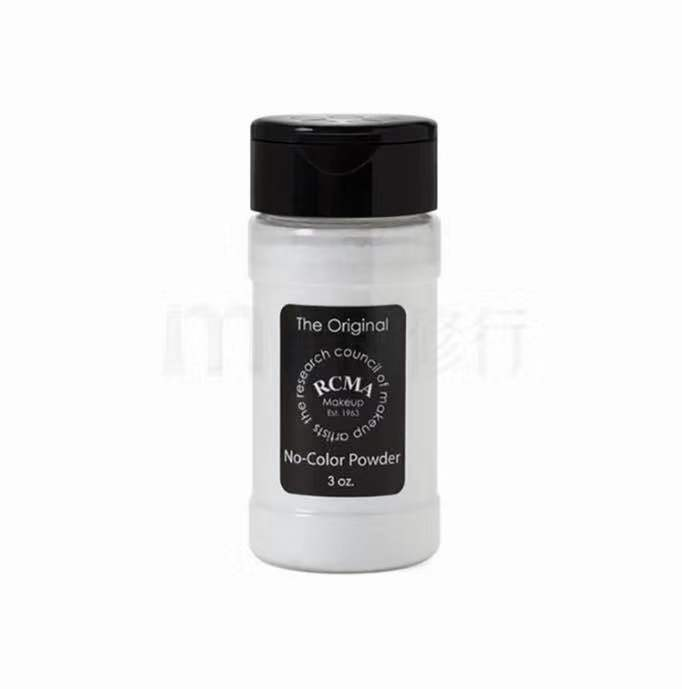cosmetic: (243, 117, 447, 567)
